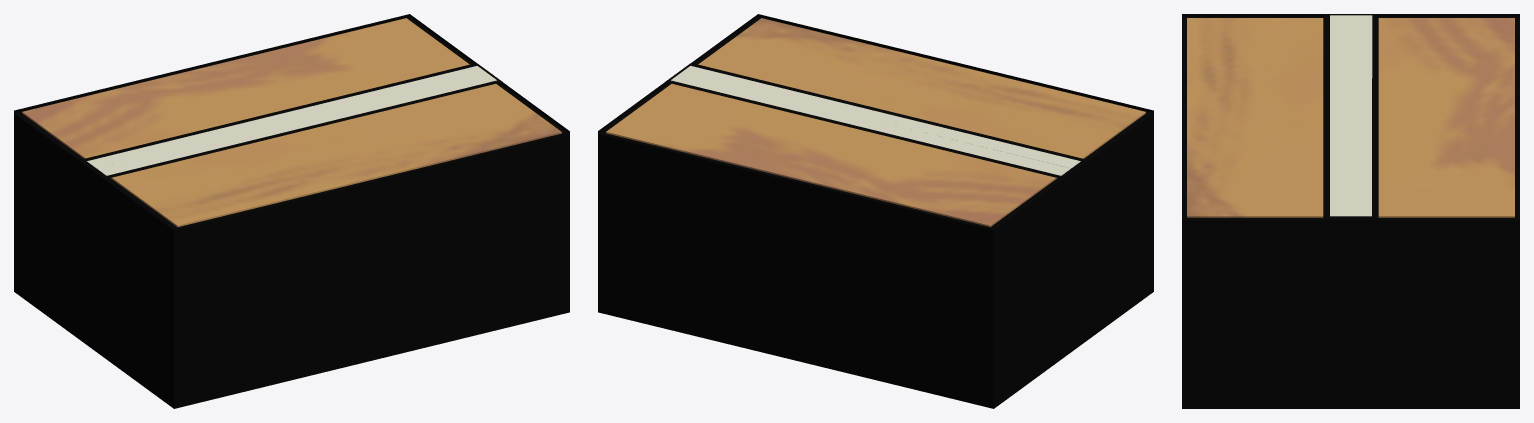
The picture shows the model from 3 angles, left to right: view 1: azimuth 30°, elevation 25°; view 2: azimuth 150°, elevation 25°; view 3: azimuth 270°, elevation 25°; orthographic projection. The views are drawn at different scales.
Parts seen in each view (by area): view 1: mainbox, boxtop1, boxtop2, walltape; view 2: mainbox, boxtop2, boxtop1, walltape; view 3: mainbox, boxtop1, boxtop2, walltape.
Part boxes in pixels (box(x1,y1,x2,y2)): mainbox: box(14, 16, 569, 408); boxtop1: box(94, 82, 569, 227); boxtop2: box(14, 14, 476, 158); walltape: box(81, 63, 502, 178); mainbox: box(598, 16, 1153, 408); boxtop2: box(598, 82, 1073, 227); boxtop1: box(691, 14, 1153, 158); walltape: box(665, 63, 1086, 178); mainbox: box(1182, 16, 1519, 408); boxtop1: box(1182, 14, 1350, 217); boxtop2: box(1351, 14, 1519, 217); walltape: box(1323, 14, 1378, 217).
Bounding box in the file's own units: 245 × 107 × 172.
Materials: 10 (5 with a texture image).
